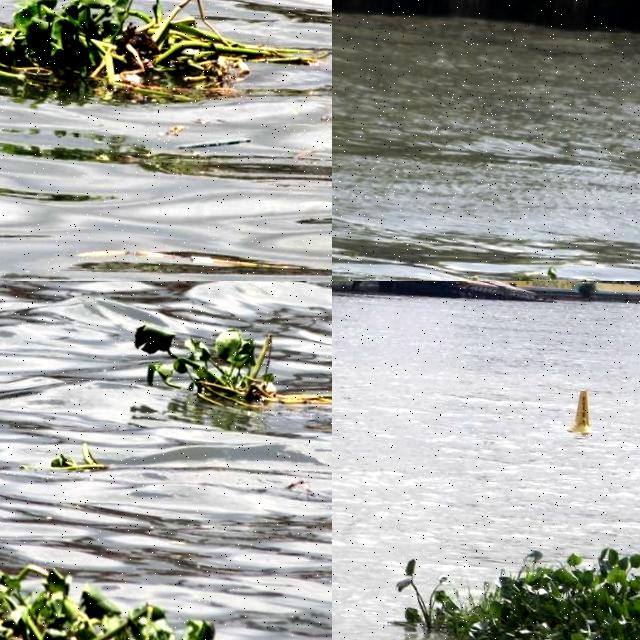water-hyacinth: (1, 1, 288, 103), (387, 531, 640, 640), (1, 529, 213, 640), (128, 324, 295, 420), (34, 437, 110, 481), (333, 228, 374, 276), (1, 1, 50, 29), (1, 282, 33, 314), (538, 271, 611, 282)
